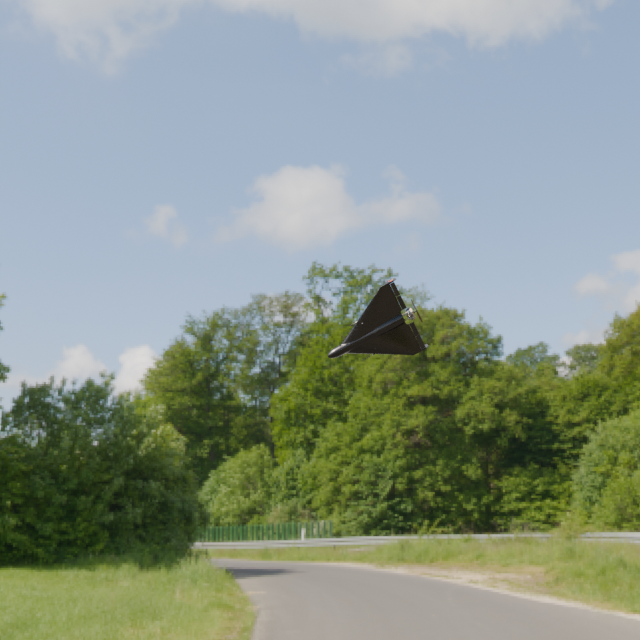shahed: (328, 277, 429, 360)
